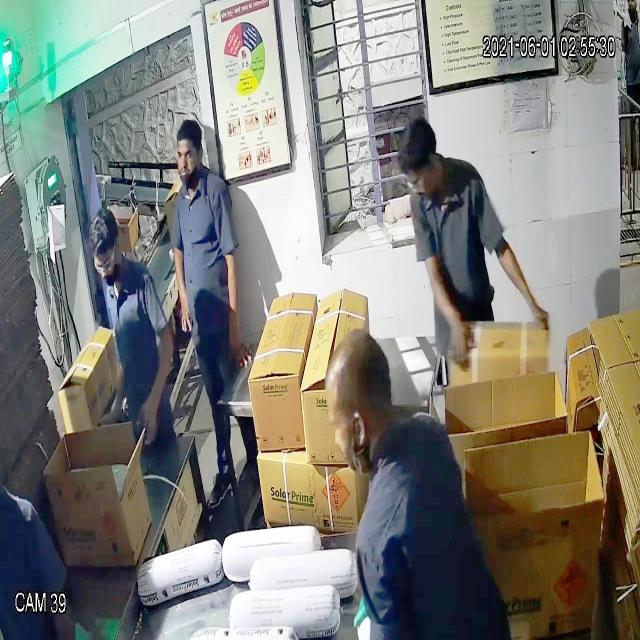glasses: (91, 247, 123, 283)
